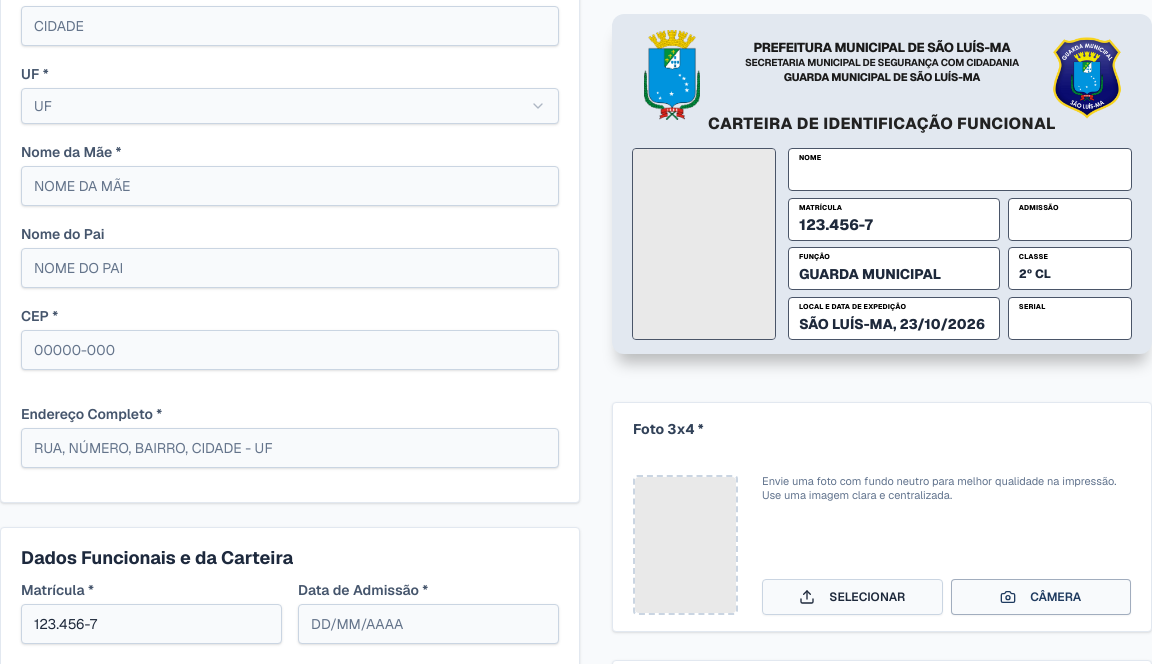
Test: GuardForm Field Limits and Masks › CEP mask should work correctly
(page scrolled)
Step 1. Type "12345678" into the field labelled "CEP *" → (290, 350), box [21,330,559,370]
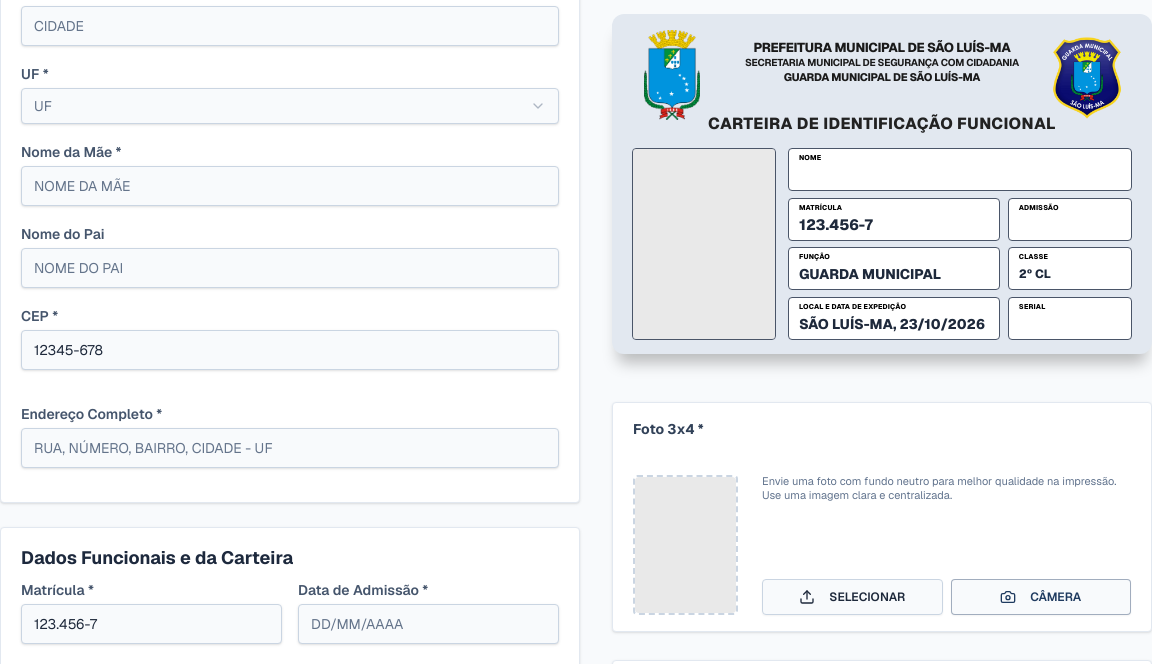
Check: the field labelled "CEP *" holds "12345-678", box [21,330,559,370]
